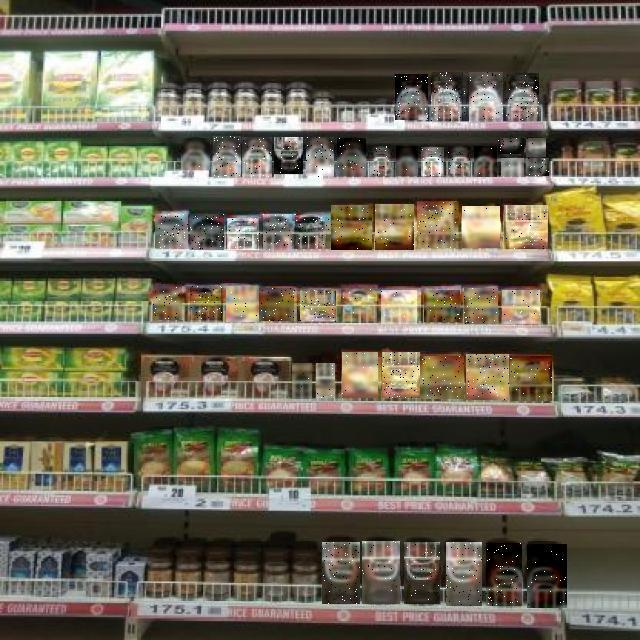Coffee: (527, 544, 567, 608), (362, 541, 400, 604), (322, 542, 360, 604), (446, 542, 482, 606), (486, 543, 522, 606), (405, 542, 441, 604), (466, 355, 509, 401), (504, 205, 548, 249), (421, 356, 465, 399), (511, 356, 553, 401), (331, 205, 372, 250), (418, 203, 458, 249), (375, 204, 414, 250), (383, 353, 421, 399), (432, 72, 466, 122), (469, 72, 503, 122), (342, 353, 378, 399), (506, 73, 539, 122), (462, 207, 500, 249), (395, 75, 428, 121), (342, 288, 378, 324), (502, 290, 540, 324), (191, 215, 225, 251), (464, 288, 498, 324), (381, 290, 417, 324), (242, 138, 272, 178), (296, 214, 330, 249), (226, 287, 259, 323), (260, 288, 296, 321), (213, 136, 241, 178), (274, 138, 303, 178), (301, 290, 337, 322), (425, 290, 461, 322), (155, 214, 188, 248), (306, 138, 334, 178), (337, 138, 366, 176), (228, 218, 262, 250), (190, 286, 222, 320), (154, 285, 184, 321), (263, 215, 292, 251), (181, 138, 210, 170), (293, 363, 313, 399), (474, 146, 497, 177), (316, 364, 335, 400), (421, 147, 444, 176), (370, 147, 392, 177), (448, 147, 470, 177), (396, 147, 418, 177), (498, 138, 524, 154), (501, 158, 524, 176), (526, 159, 549, 177), (526, 138, 546, 157)
